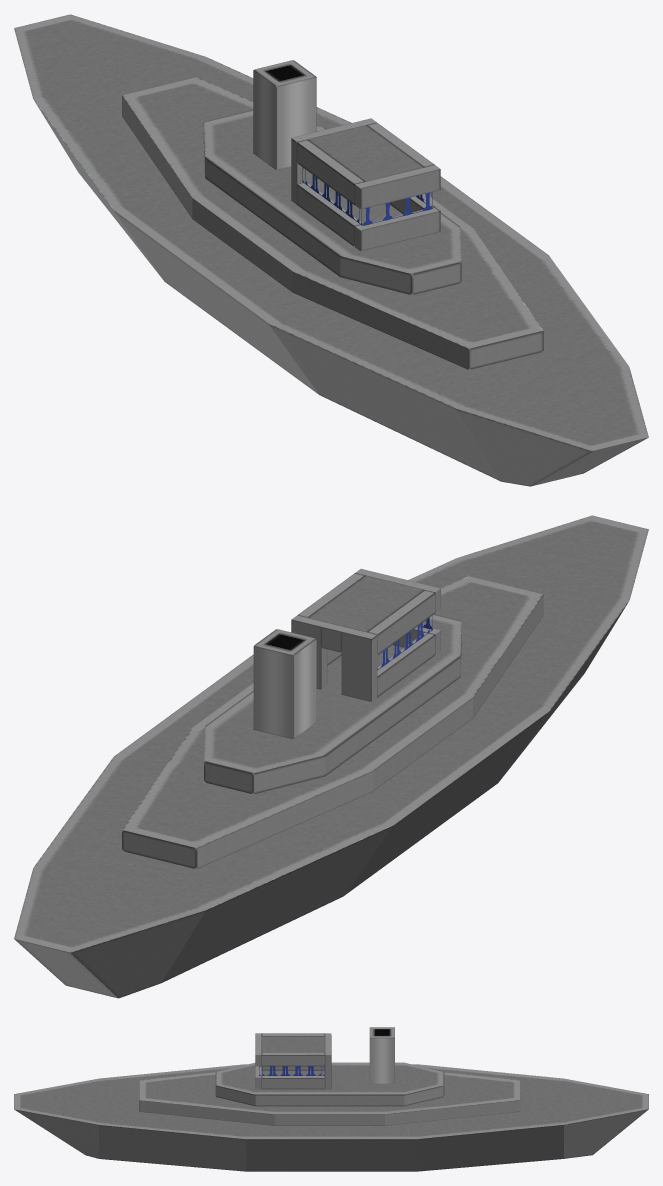
File: battleship.obj
3 renders of one model, top to bottom at view 1: azimuth 30°, elevation 25°; view 2: azimuth 150°, elevation 25°; view 3: azimuth 270°, elevation 25°, orthographic. The views are drawn at different scales.
Parts seen in each view (by area): view 1: cylinder3, cylinder2, cylinder1, cube1, cube10, cube6, cube5, cube12, cube11, cube3; view 2: cylinder3, cylinder2, cylinder1, cube1, cube10, cube3, cube12, cube11, cube2; view 3: cylinder3, cylinder2, cylinder1, cube1, cube10, cube14, cube13, cube9, cube2, cube11, cube6.
Boxes of the visible parts, x1,y1,x2,y2 form: cylinder3: [14, 14, 648, 486]; cylinder2: [122, 77, 543, 369]; cylinder1: [203, 110, 461, 294]; cube1: [253, 60, 316, 170]; cube10: [308, 125, 423, 181]; cube6: [355, 165, 440, 209]; cube5: [355, 207, 440, 251]; cube12: [297, 140, 364, 204]; cube11: [297, 182, 363, 246]; cube3: [291, 130, 326, 204]; cylinder3: [14, 515, 648, 998]; cylinder2: [122, 576, 543, 868]; cylinder1: [204, 614, 461, 793]; cube1: [253, 629, 316, 738]; cube10: [308, 576, 424, 632]; cube3: [341, 627, 377, 701]; cube12: [367, 590, 435, 655]; cube11: [377, 632, 435, 697]; cube2: [291, 615, 327, 689]; cylinder3: [14, 1064, 648, 1171]; cylinder2: [139, 1072, 520, 1125]; cylinder1: [215, 1062, 444, 1106]; cube1: [369, 1027, 394, 1083]; cube10: [261, 1036, 324, 1052]; cube14: [261, 1052, 324, 1066]; cube13: [261, 1075, 324, 1089]; cube9: [259, 1066, 324, 1075]; cube2: [325, 1047, 331, 1089]; cube11: [261, 1066, 324, 1070]; cube6: [255, 1033, 261, 1066].
Size of the model in its own units: 14 by 10 by 50.
